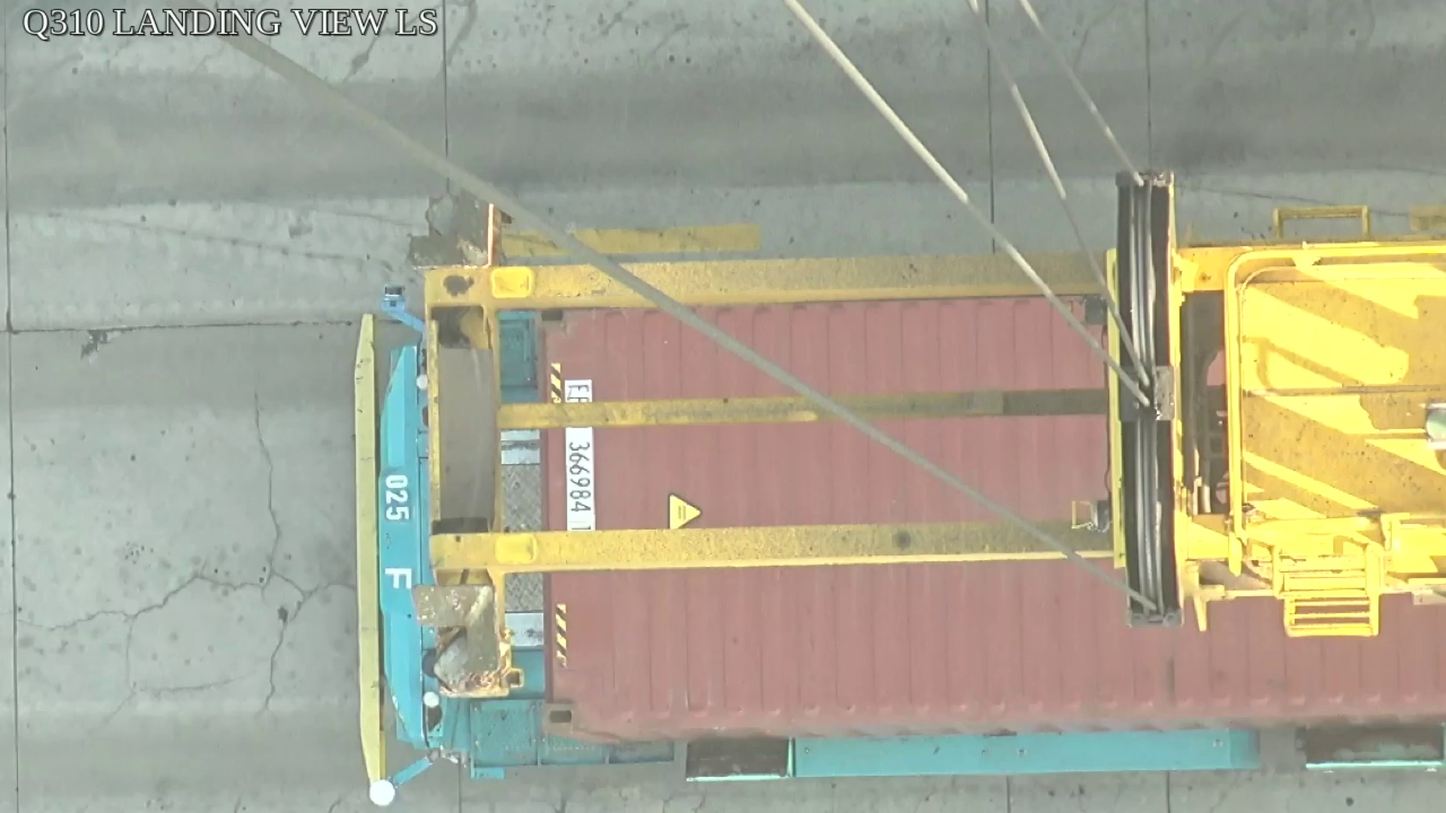aa: (1111, 171, 1188, 625)
